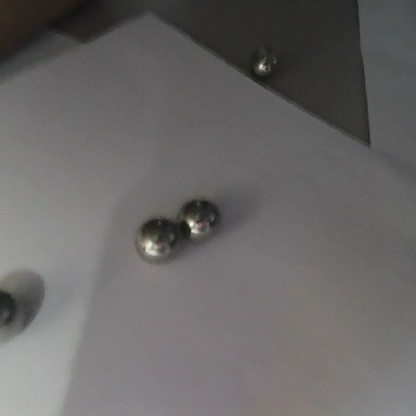ironball: (126, 210, 183, 265), (174, 194, 224, 244), (0, 278, 28, 346), (247, 43, 282, 78)
